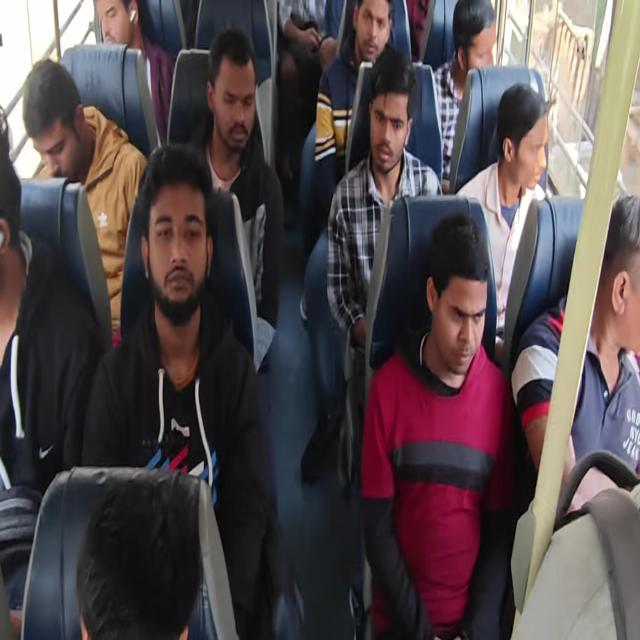person: (74, 499, 224, 640), (414, 205, 492, 382), (579, 182, 640, 368), (136, 165, 205, 303), (19, 75, 92, 182), (492, 95, 562, 202), (364, 71, 416, 172), (444, 0, 501, 83), (210, 53, 258, 145), (0, 119, 21, 312), (85, 0, 138, 56), (353, 0, 387, 58)
